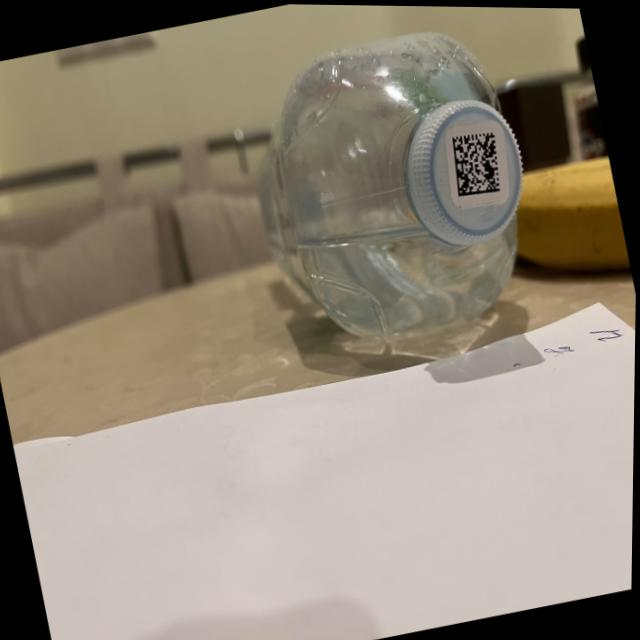datamatrix: (447, 127, 507, 198)
